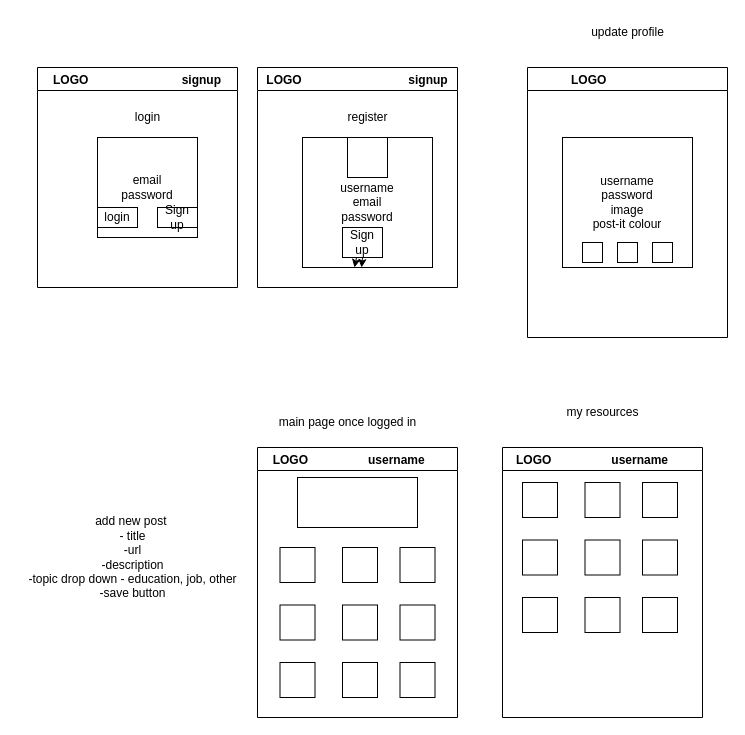
Image size: 745x735. Some labels were removed from this diagram. Here are the shapes that lost their labels. From the top down, the centre of each, then its label:
At point (367, 157): "image".
At point (357, 502): "add new post".
